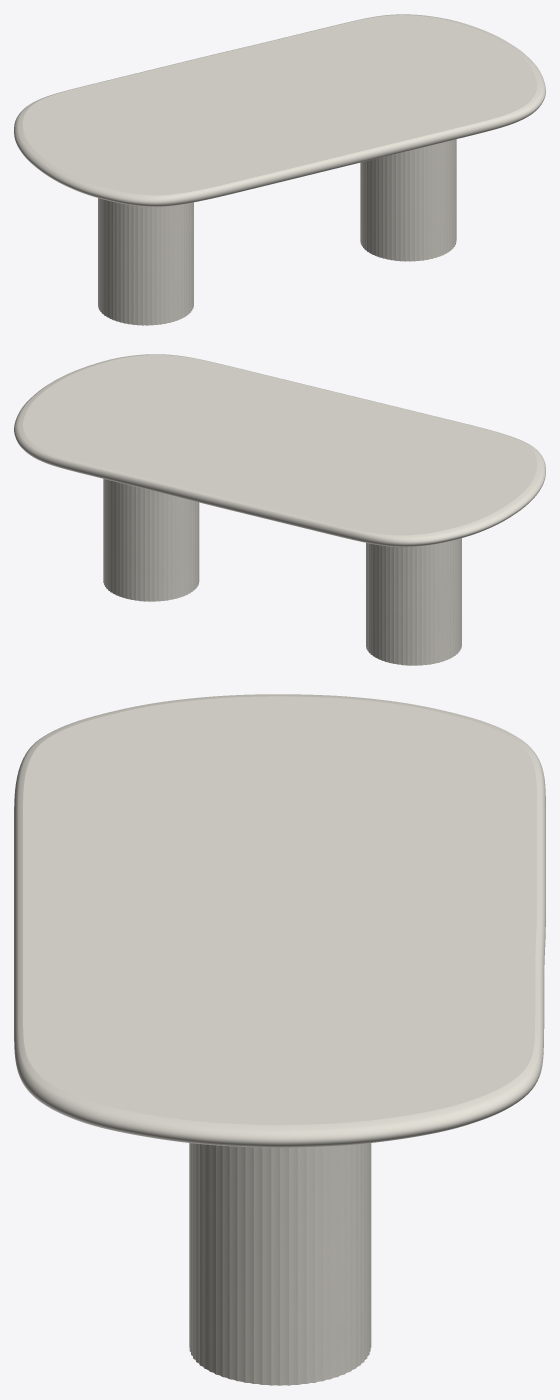
Rendered from pale_oval_round_ripplesecond.glb.
The picture shows the model from 3 angles, top to bottom: view 1: azimuth 30°, elevation 25°; view 2: azimuth 150°, elevation 25°; view 3: azimuth 270°, elevation 25°; orthographic projection. The views are drawn at different scales.
Visible parts, largest first — view 1: round_oval, ripplesecond; view 2: round_oval, ripplesecond; view 3: round_oval, ripplesecond.
Part boxes in pixels (x1,y1,x2,y2): round_oval: (14,14,545,206); ripplesecond: (98,139,456,325); round_oval: (14,354,545,546); ripplesecond: (103,479,461,665); round_oval: (14,694,545,1147); ripplesecond: (189,1143,371,1385).
Size of the model in its own units: 7.5 by 2.5 by 3.8.
1 material, 1 textured.
